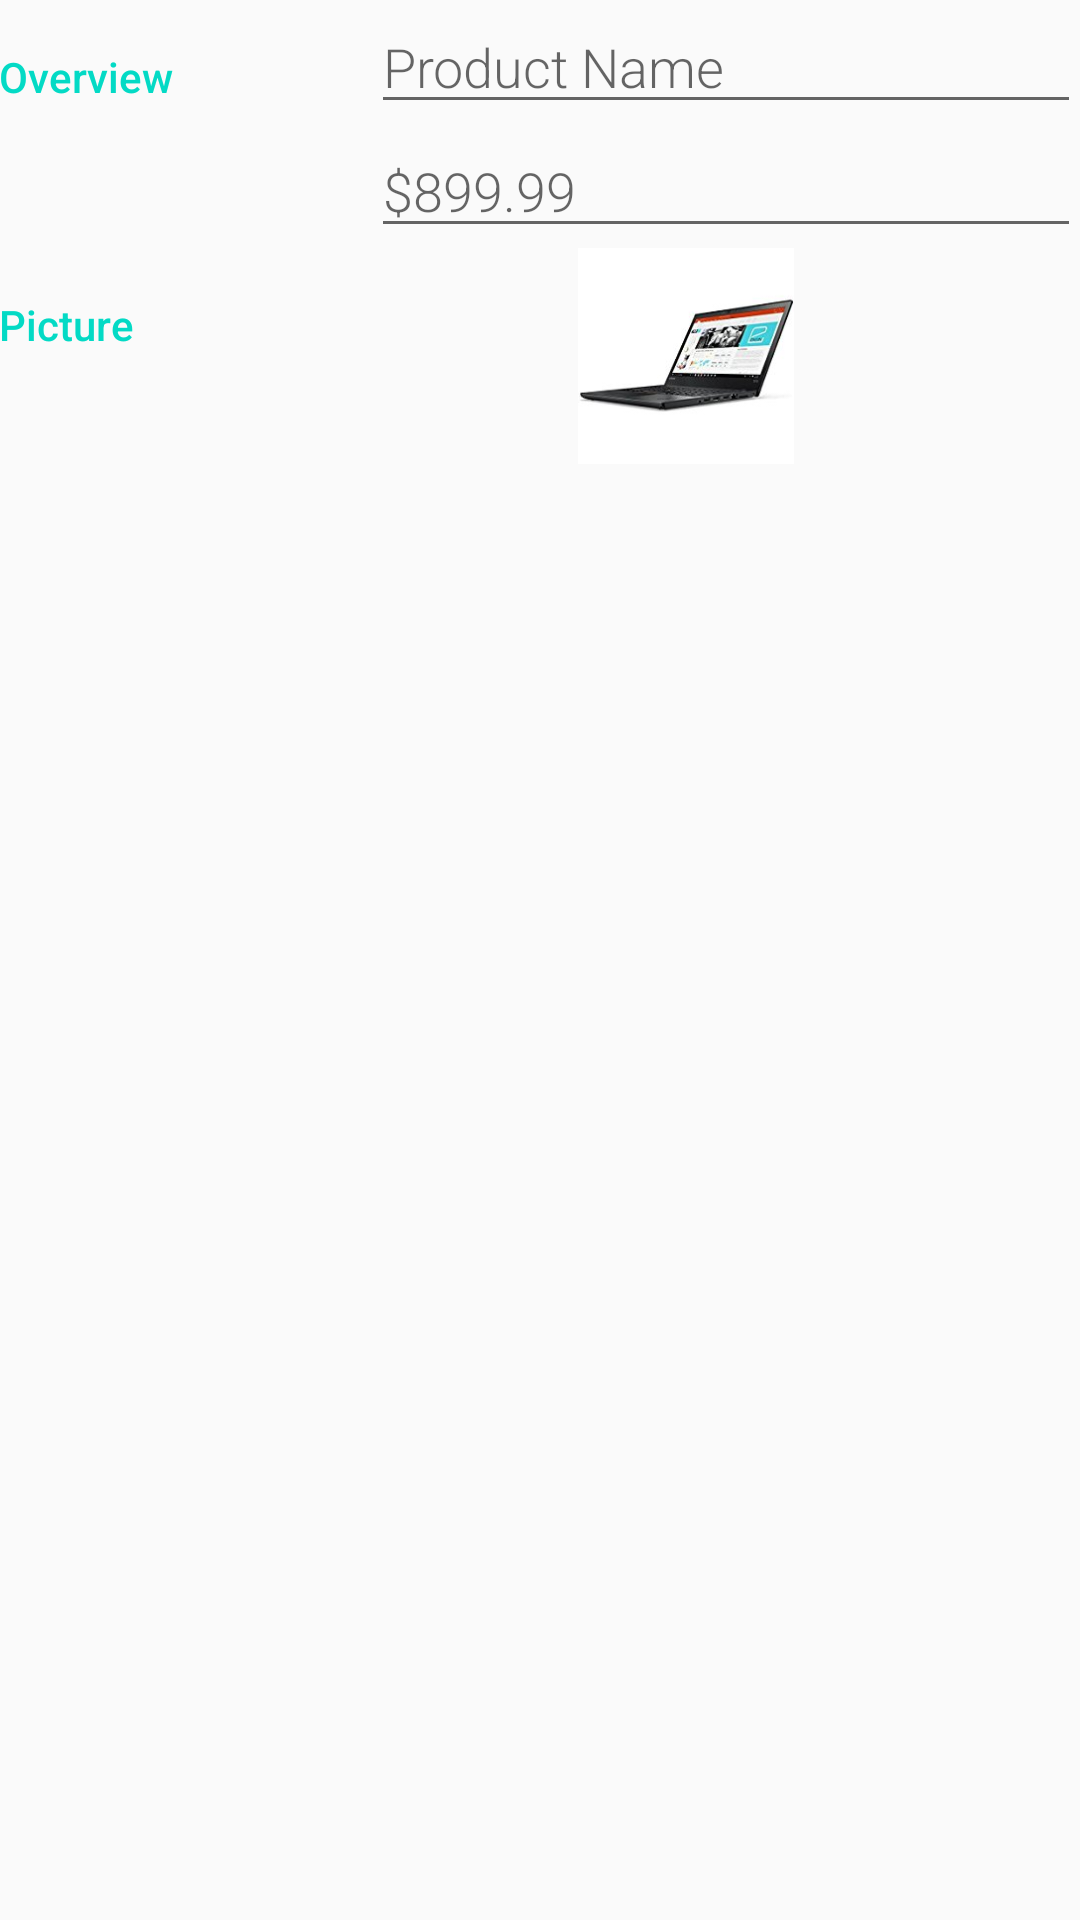

Screen size 1080px×1920px. Icon name, then its box in pixels as (x1, y1, x2, y2):
lenovo: (580, 299, 793, 411)
